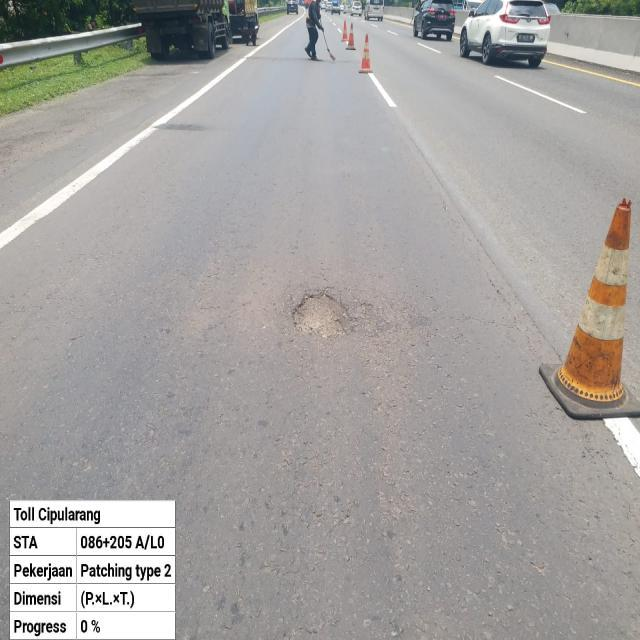Buraco: (288, 290, 364, 341)
